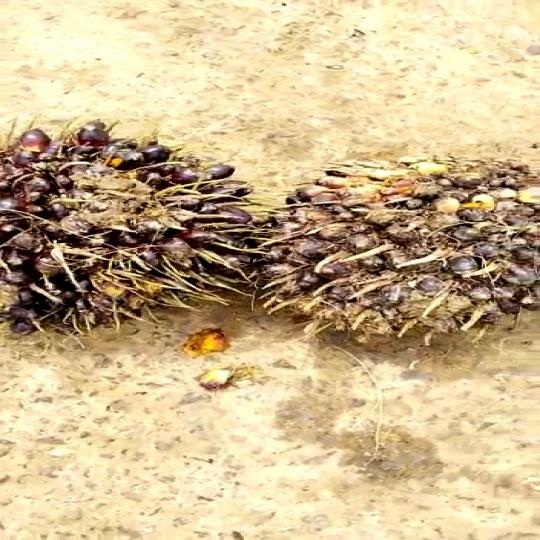mentah: (0, 118, 316, 341), (259, 138, 540, 334)
